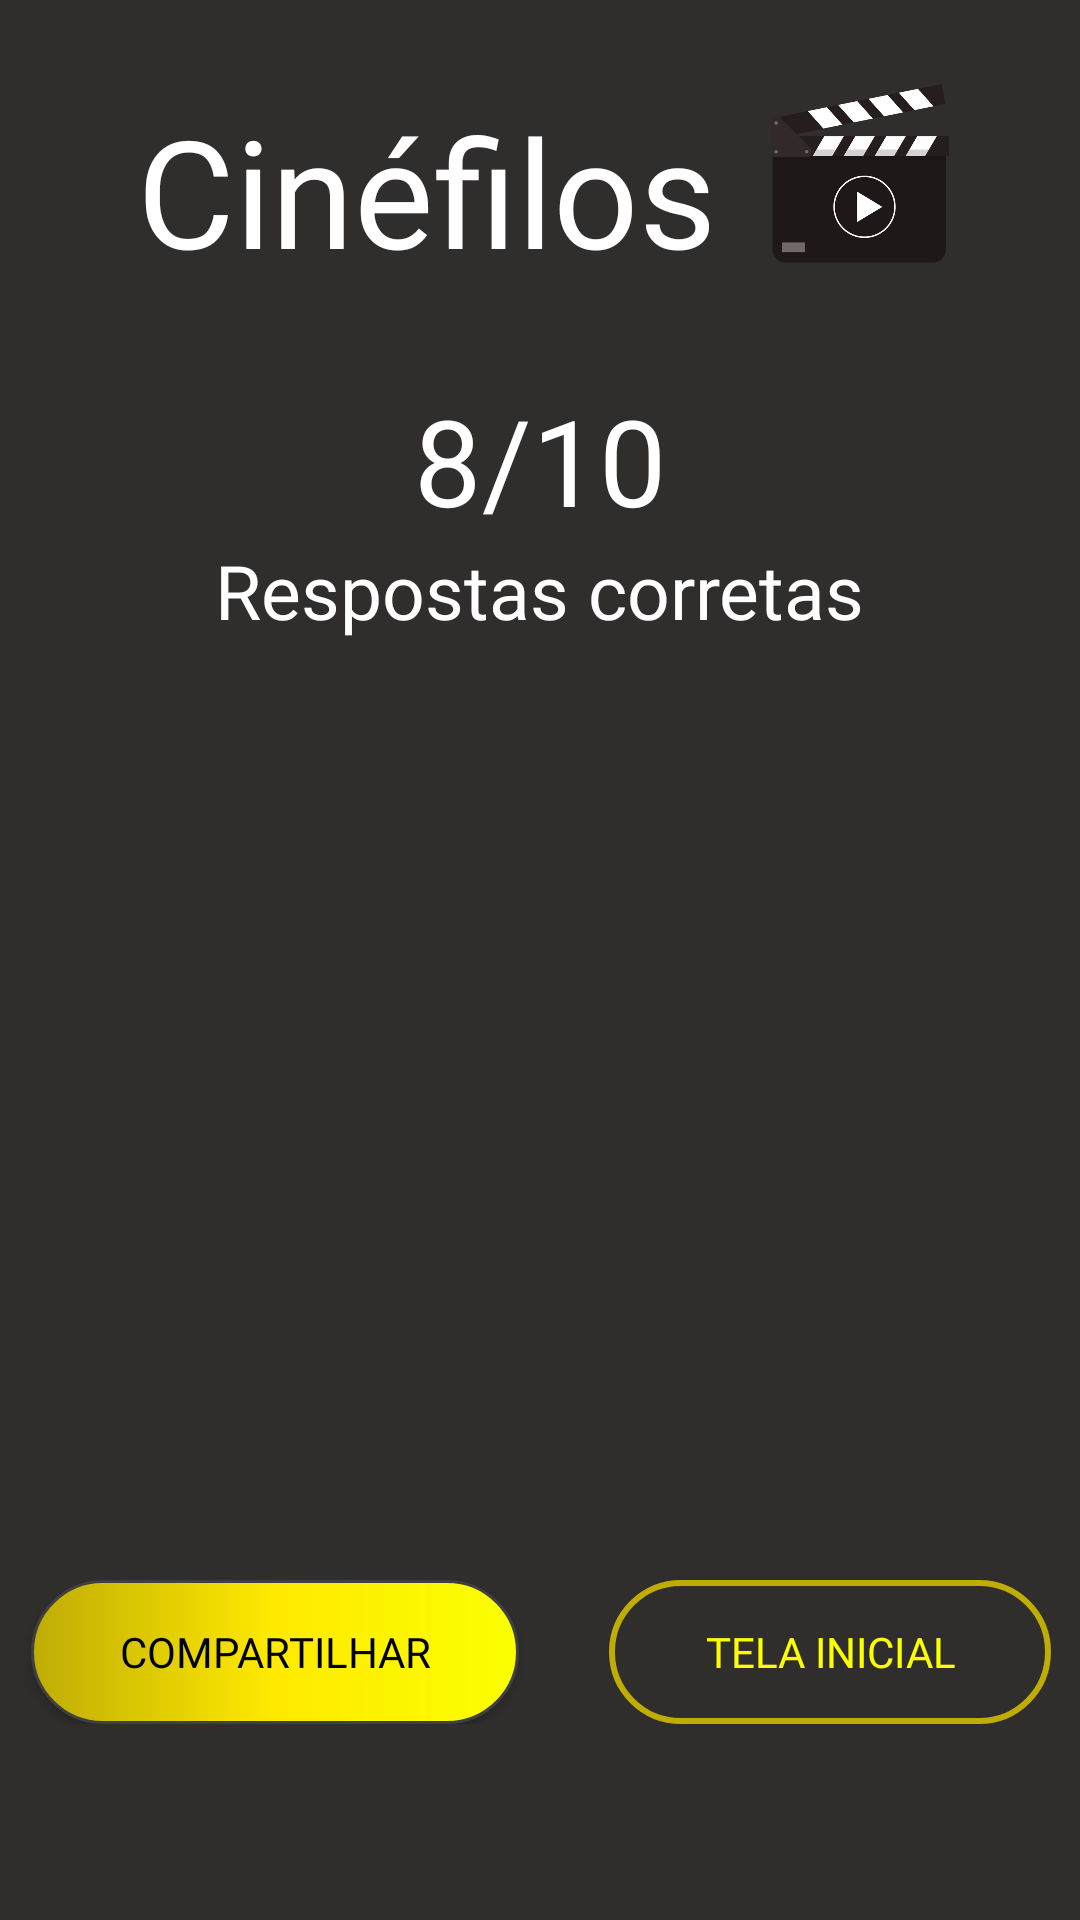

Icon click points for this 1080 × 1920 phone screenshot, format (x,y):
cinefilos: (860,173)
